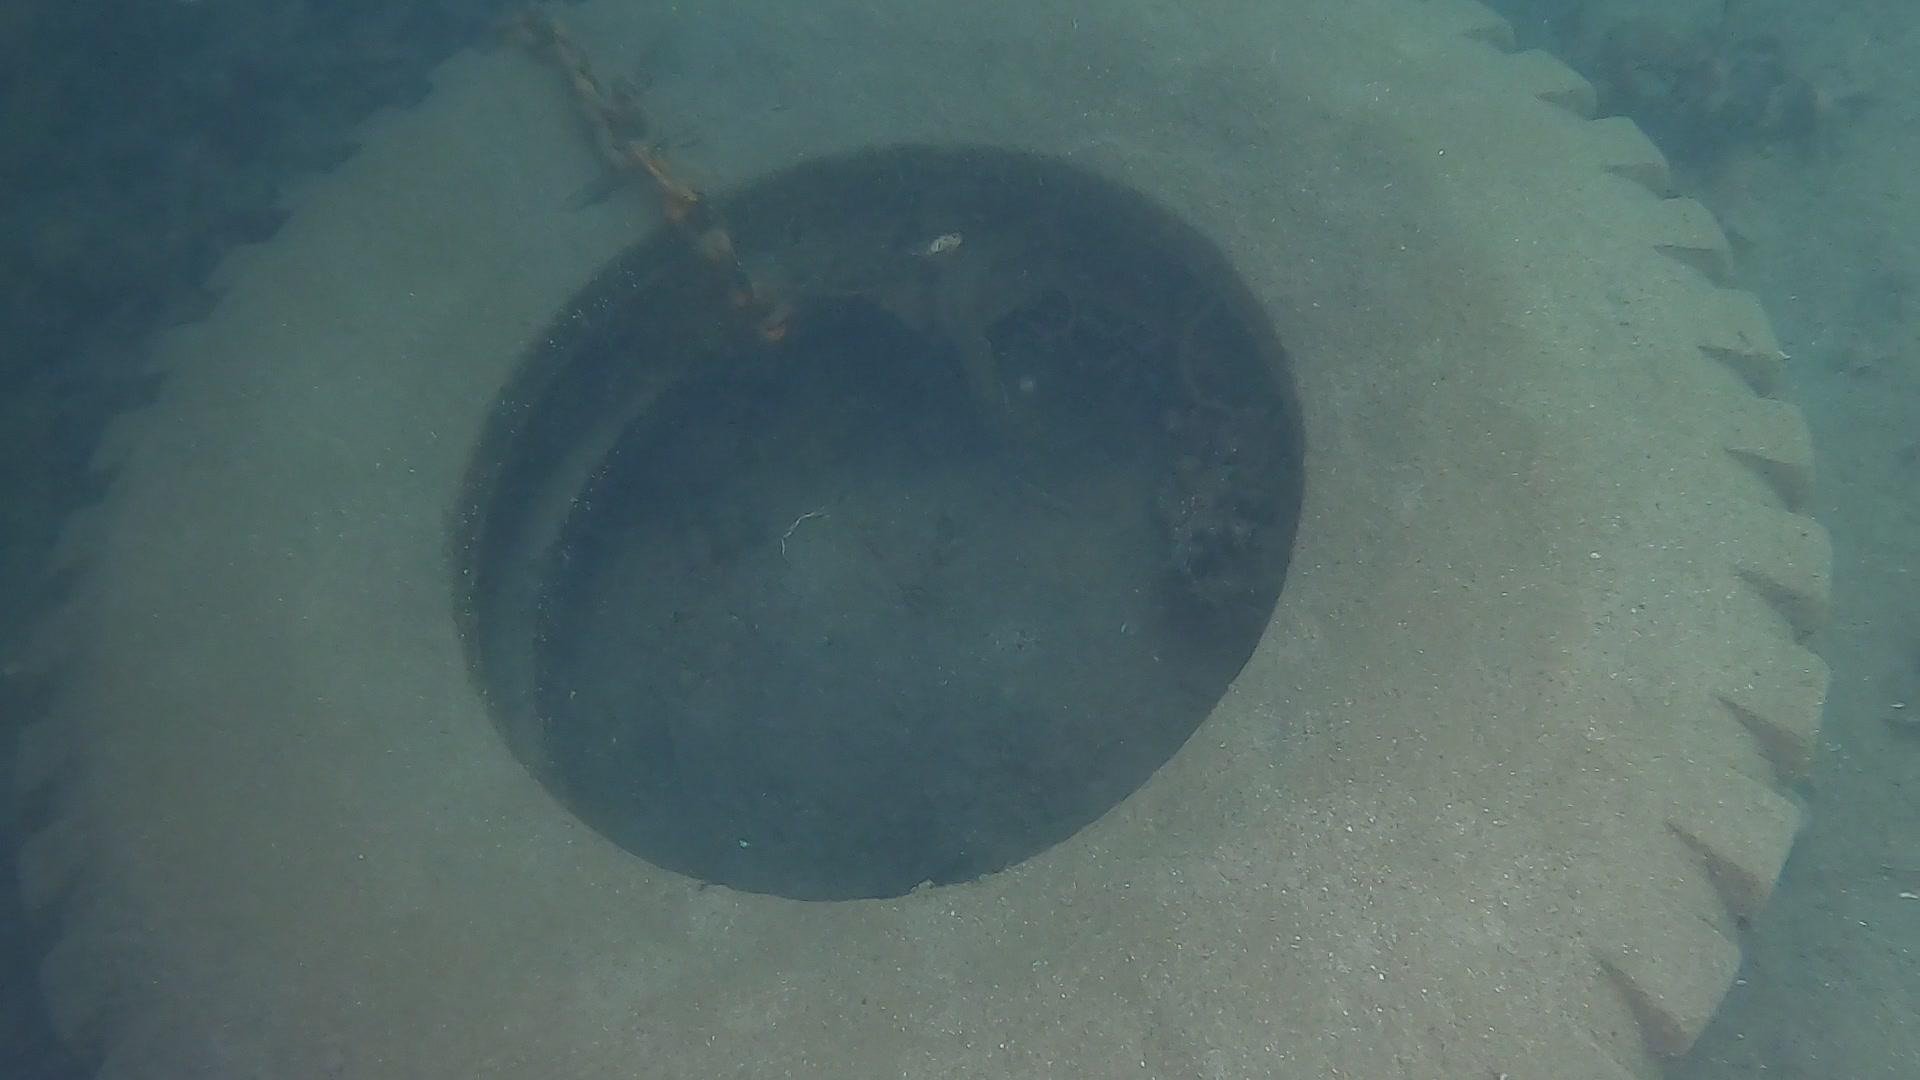tire: (18, 0, 1838, 1080)
